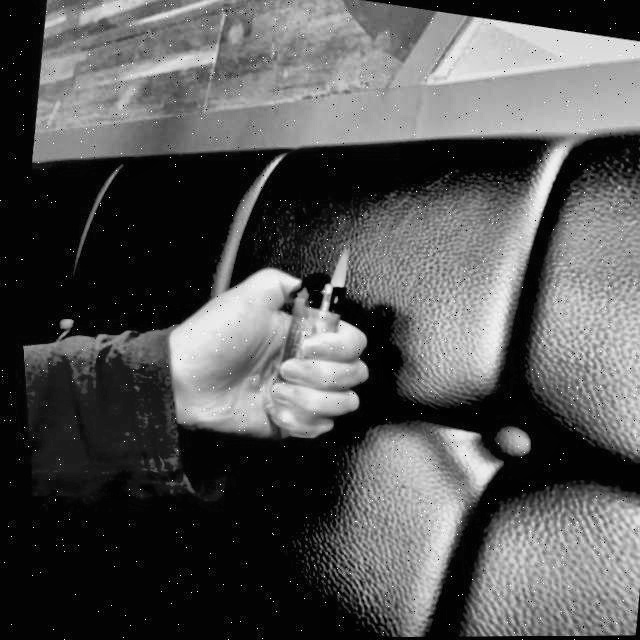Fire: (322, 245, 350, 291)
